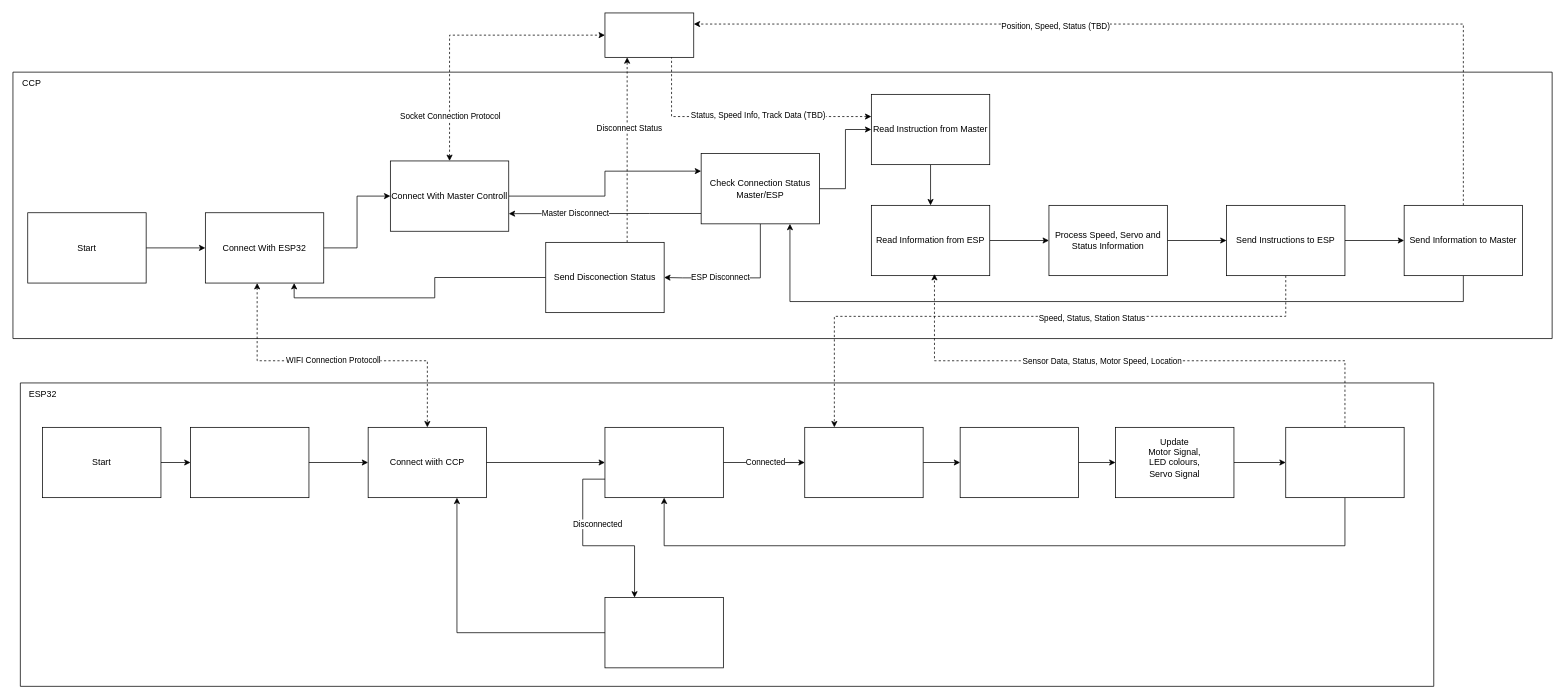
Image size: 1565x699. Some labels were removed from this diagram. The centre of each missing label's shape, as x and y in pixels:
Check Connection CCP: the point at 663,462
Check for new information: the point at 863,462
Check Sensors: the point at 1019,462
Emergency Stop: the point at 663,632
Initialize local WIFI network: the point at 249,462
Master Control Software: the point at 649,34
Send Sensor Data to CPP: the point at 1344,462
